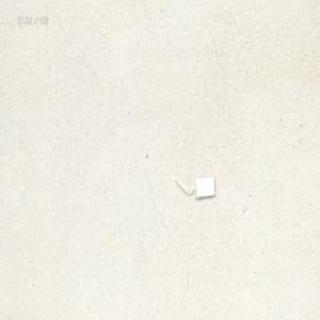LuggageTagtrack_idkeyframe: (172, 172, 215, 200)
